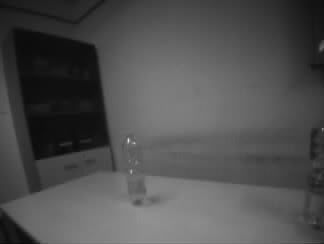Bottle: (120, 132, 147, 206)
